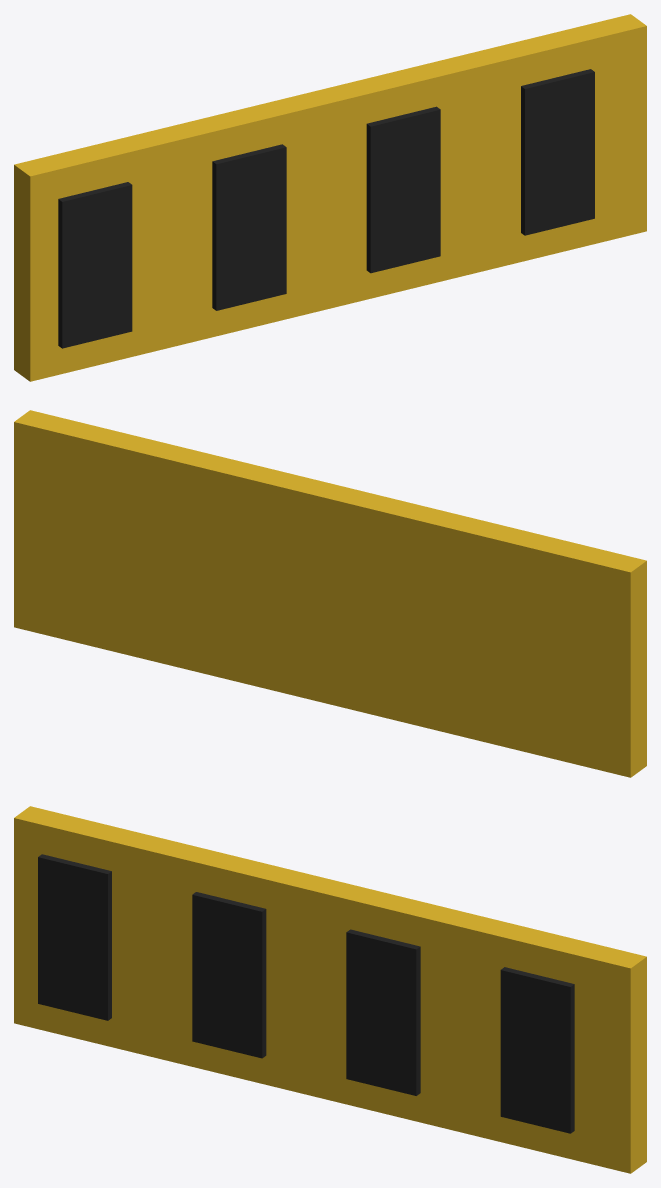
File: SM_Prop_Sign_Danger_01.glb
3 views of the same model, one above another, from view 1: azimuth 30°, elevation 25°; view 2: azimuth 150°, elevation 25°; view 3: azimuth 330°, elevation 25° (orthographic).
Parts seen in each view (by area): view 1: SM_Prop_Sign_Danger_01; view 2: SM_Prop_Sign_Danger_01; view 3: SM_Prop_Sign_Danger_01.
Boxes of the visible parts, x1,y1,x2,y2 form: SM_Prop_Sign_Danger_01: [14, 14, 646, 381]; SM_Prop_Sign_Danger_01: [14, 410, 646, 777]; SM_Prop_Sign_Danger_01: [14, 806, 646, 1173].
Size of the model in its own units: 0.44 by 0.14 by 0.025.
1 material, 1 textured.
